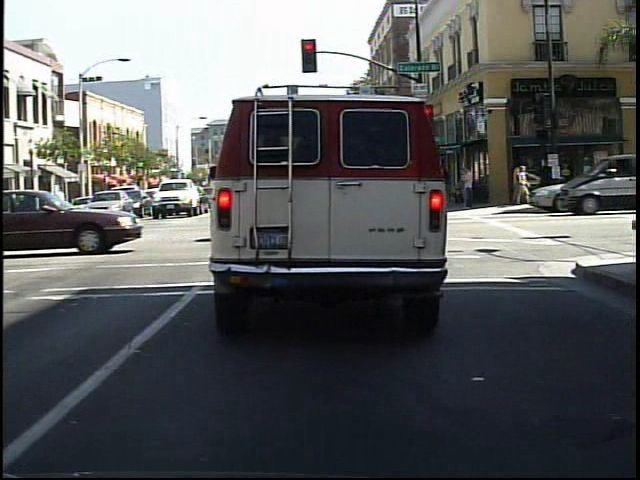person: (511, 163, 531, 208), (536, 155, 557, 179)
